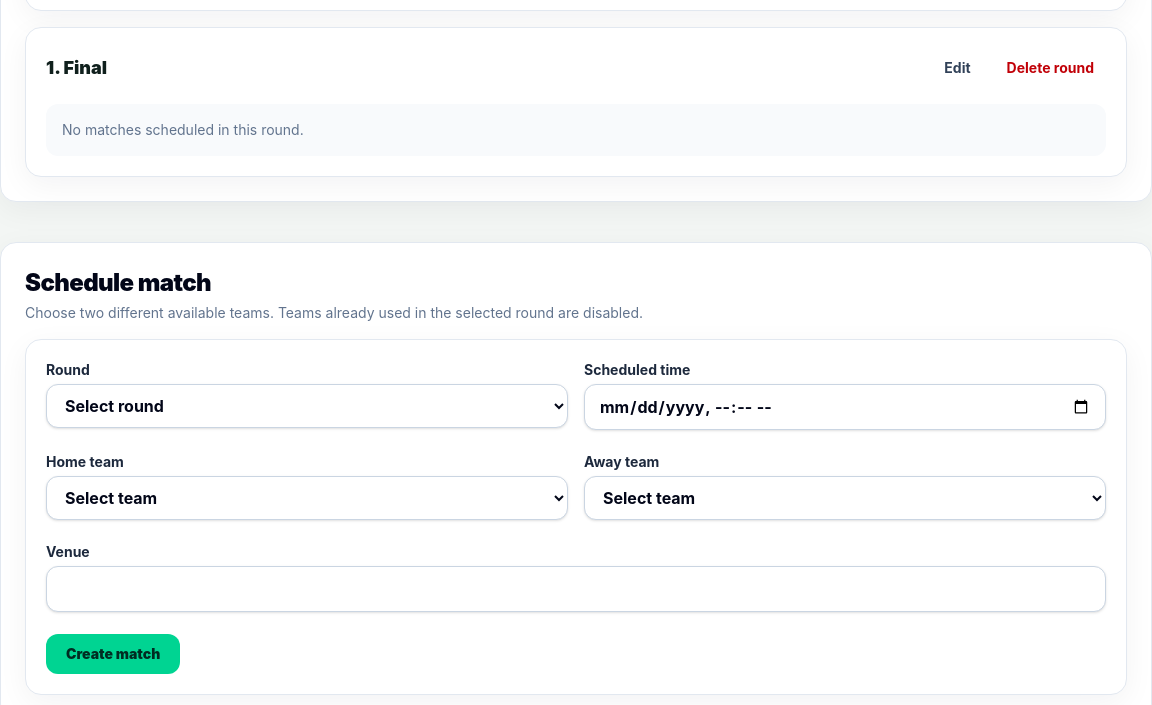
it: EventWorkspace › explains that a team cannot play itself
(page scrolled)
expect the heading "1. Final" is shown: met, box [46,57,107,78]
Select "Final" in the dropdown labelled "Round" at (307, 406), box [46,384,568,428]
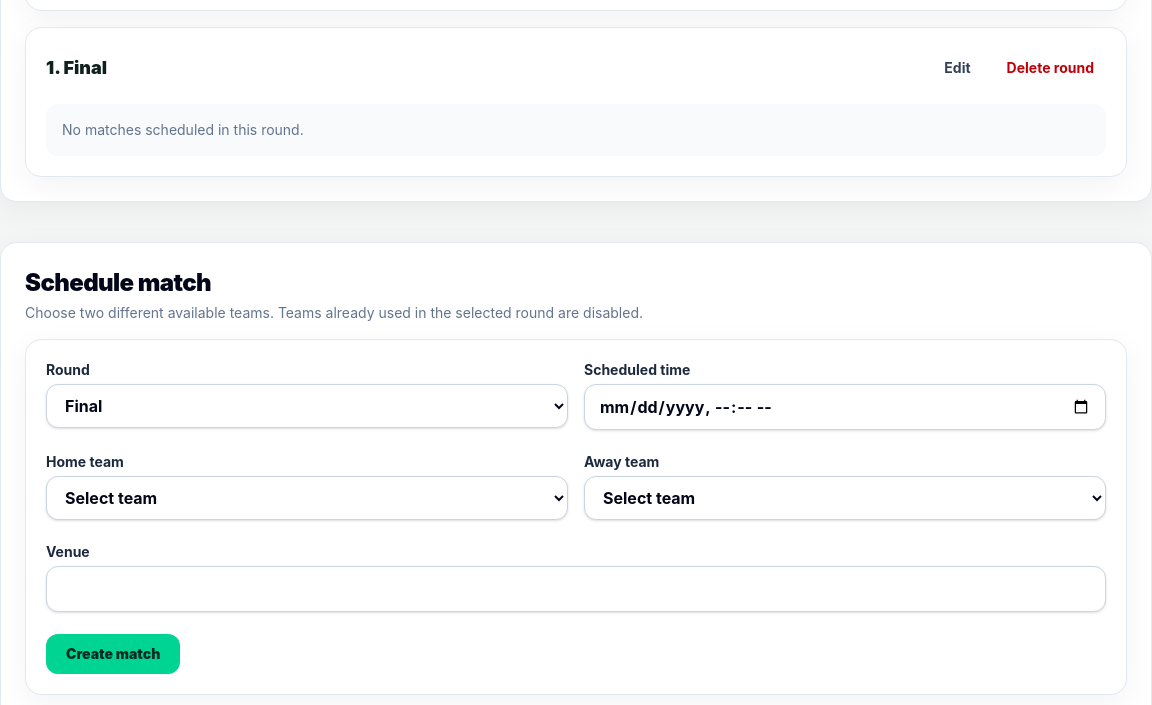
Select "Alpha" in the dropdown labelled "Home team" at (307, 498), box [46,476,568,520]
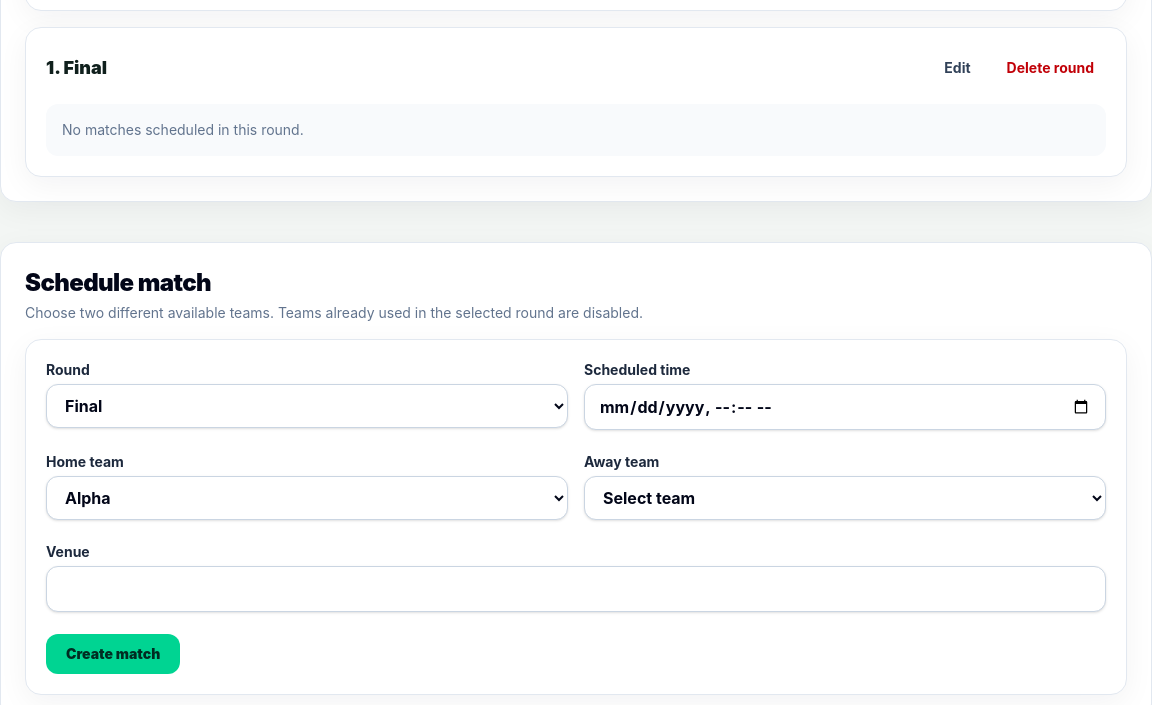
Select "Alpha" in the dropdown labelled "Away team" at (845, 498), box [584,476,1106,520]
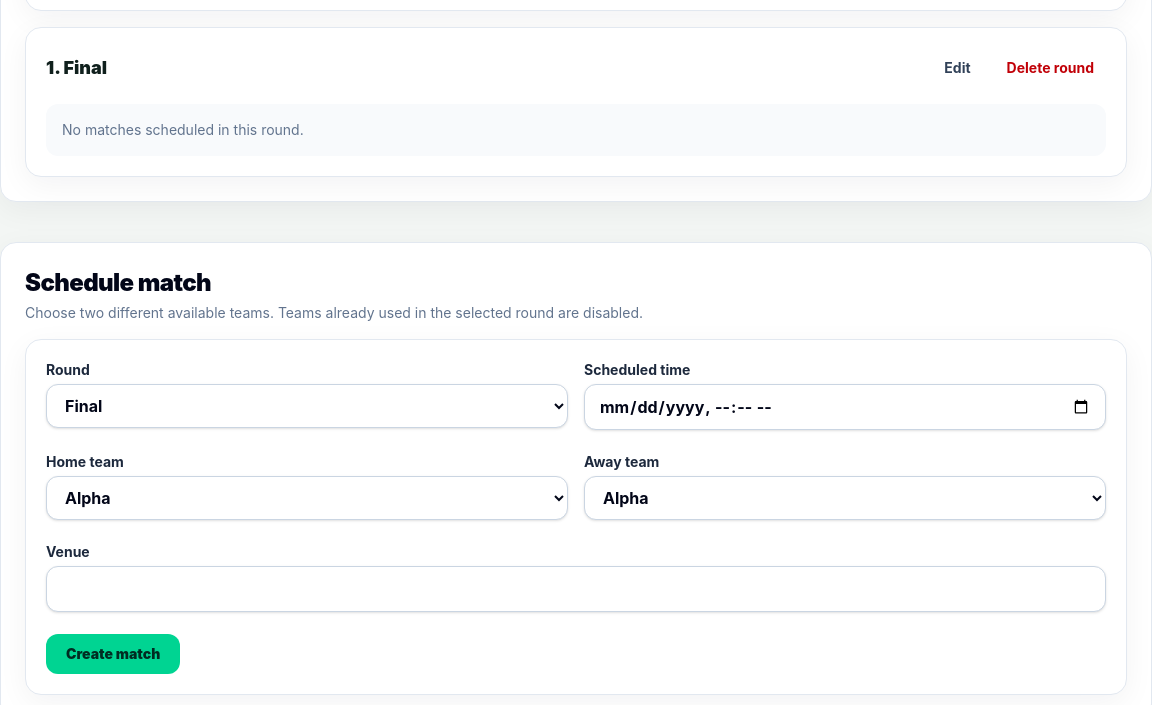
Type "2026-01-01T12:00" into the field labelled "Scheduled time".
click(845, 407); type("2026-01-01T12:00")  # box [584,384,1106,430]
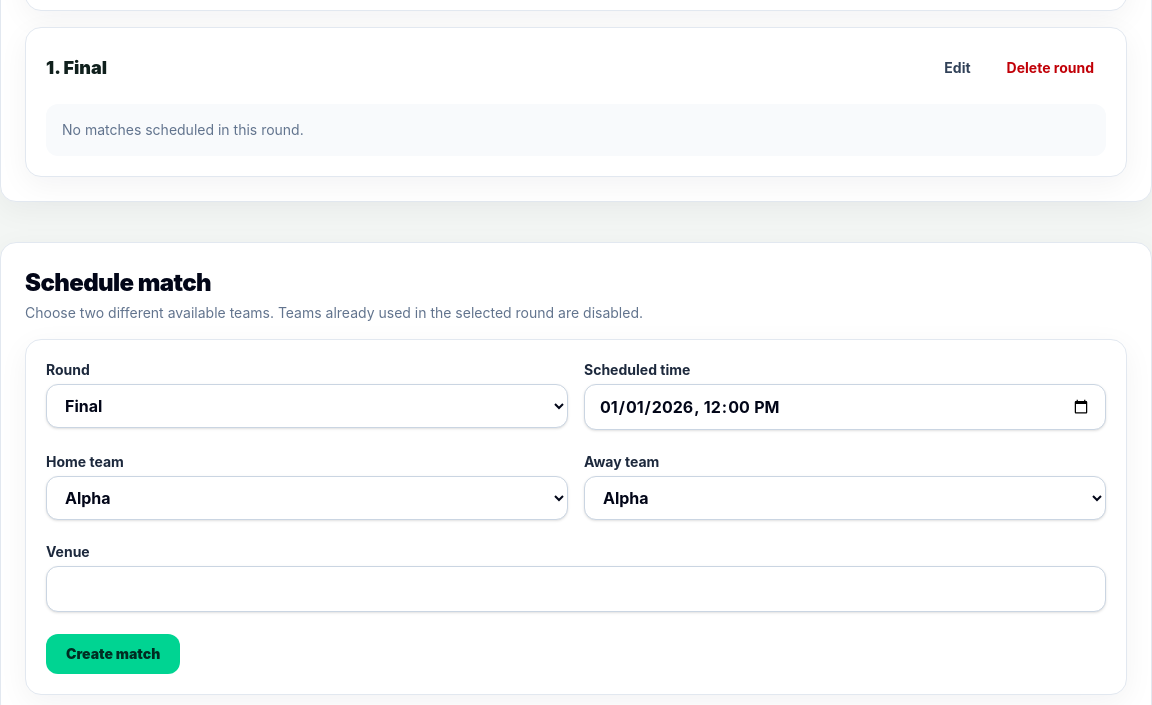
Click the button "Create match".
click(113, 654)  # box [46,634,180,674]
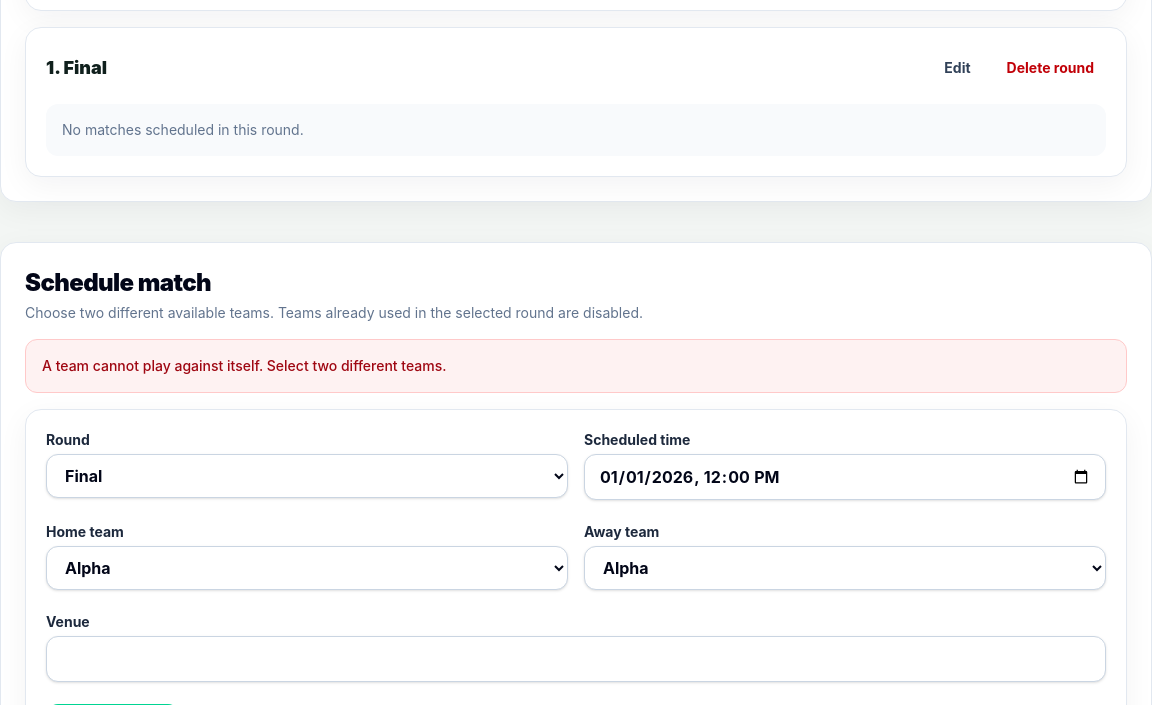
expect the message shows "cannot play against itself": met, box [42,357,446,374]
